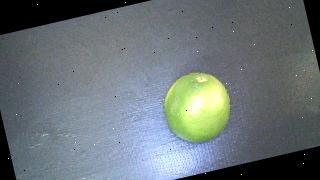EXPORTACION: (158, 66, 238, 149)
